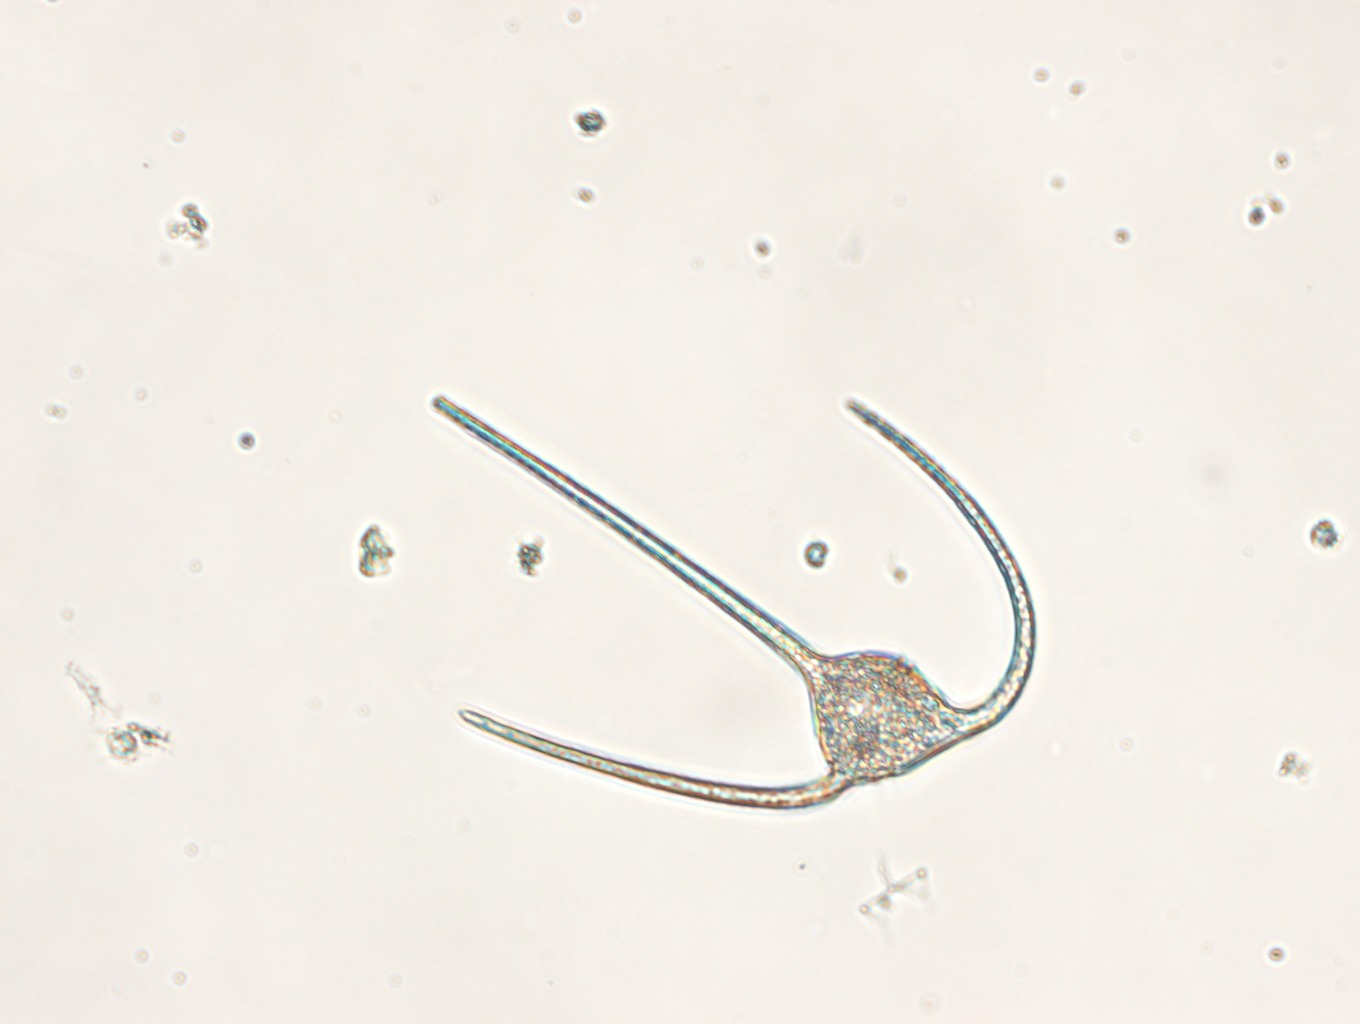ceratium trichoceros: (430, 395, 1034, 811)
